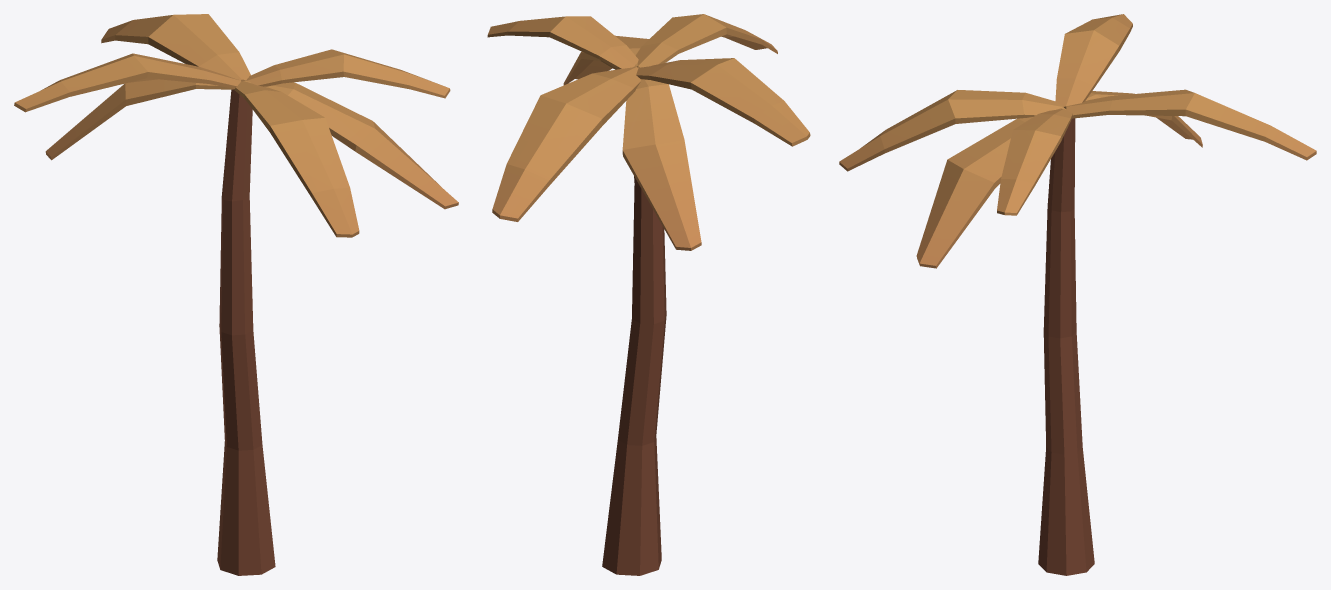
File: Tree_38_gradient_yellow_vc.fbx
The picture shows the model from 3 angles, left to right: view 1: azimuth 30°, elevation 25°; view 2: azimuth 150°, elevation 25°; view 3: azimuth 270°, elevation 25°; orthographic projection. The views are drawn at different scales.
Parts seen in each view (by area): view 1: Tree_38_gradient_yellow_vc; view 2: Tree_38_gradient_yellow_vc; view 3: Tree_38_gradient_yellow_vc.
Part boxes in pixels (box(x1,y1,x2,y2)): Tree_38_gradient_yellow_vc: box(14, 14, 458, 575); Tree_38_gradient_yellow_vc: box(487, 14, 810, 575); Tree_38_gradient_yellow_vc: box(839, 14, 1316, 575).
Bounding box in the file's own units: 160 × 214 × 189.
